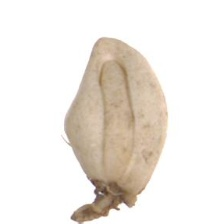L1: (86, 174, 140, 217), (89, 35, 129, 65)
L2: (63, 37, 169, 220)
